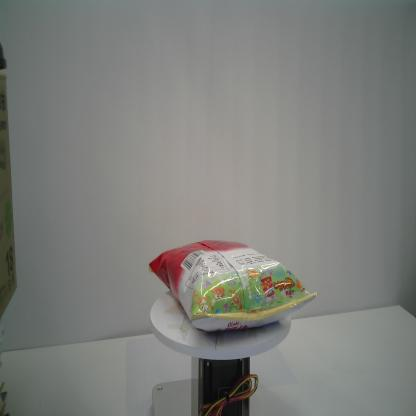Puffed Food: (146, 238, 320, 339)
